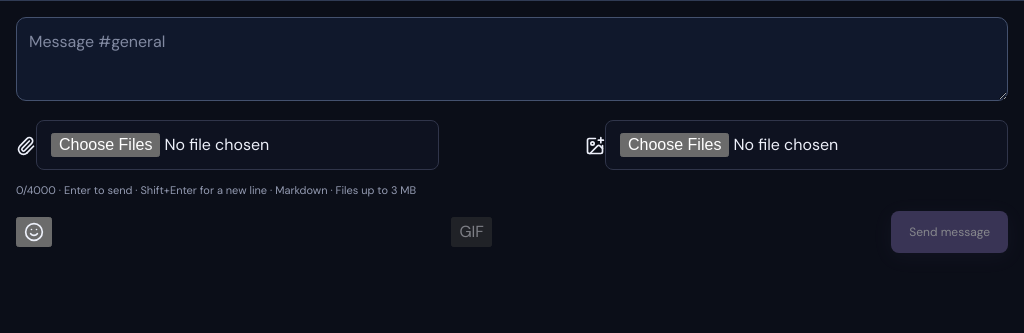
Scenario: community composer › looks up only authorized channel members and supports keyboard mention selection
Step 1. Type "Hi @tay" into the text box named "Message general" → point(512, 59), box [16,17,1008,101]
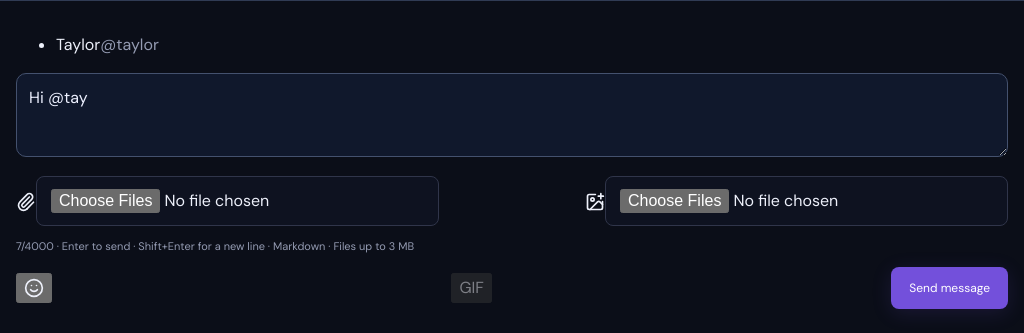
Now the option named "Taylor @taylor" is shown, box [56,34,159,55]
Step 2. Press ArrowDown in the text box named "Message general", box [16,73,1008,157]
Step 3. Press Tab in the text box named "Message general", box [16,73,1008,157]
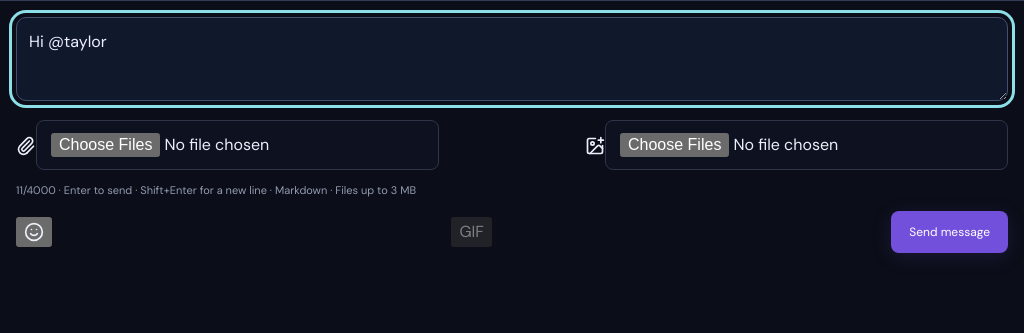
Now the text box named "Message general" holds "Hi @taylor ", box [16,17,1008,101]
